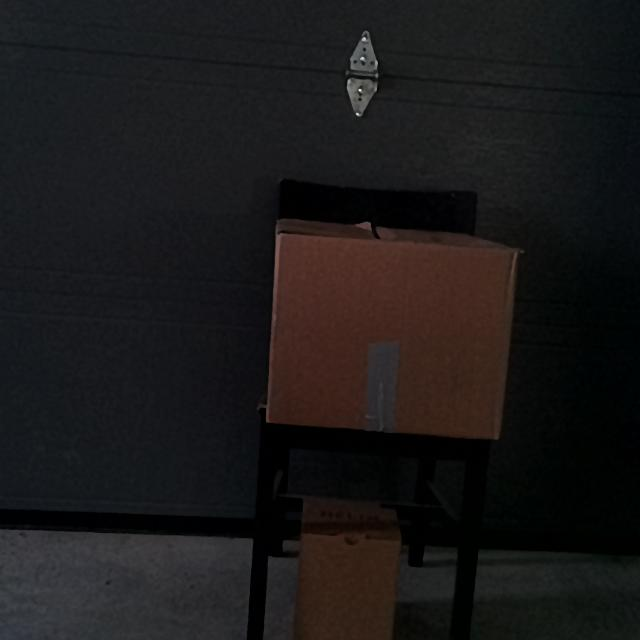box: (268, 245, 513, 428), (301, 533, 397, 640)
